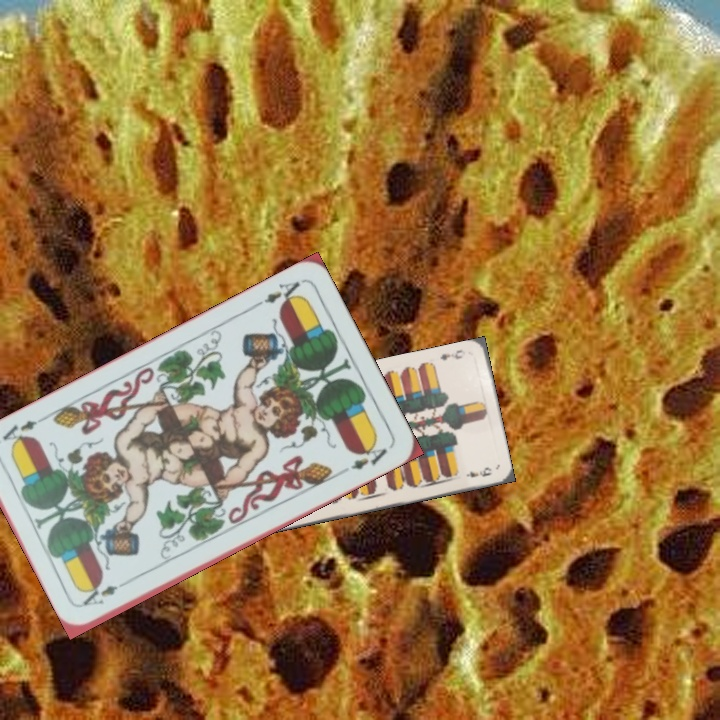E9: (436, 345, 466, 363)
EA: (249, 277, 305, 311), (79, 575, 134, 609)
